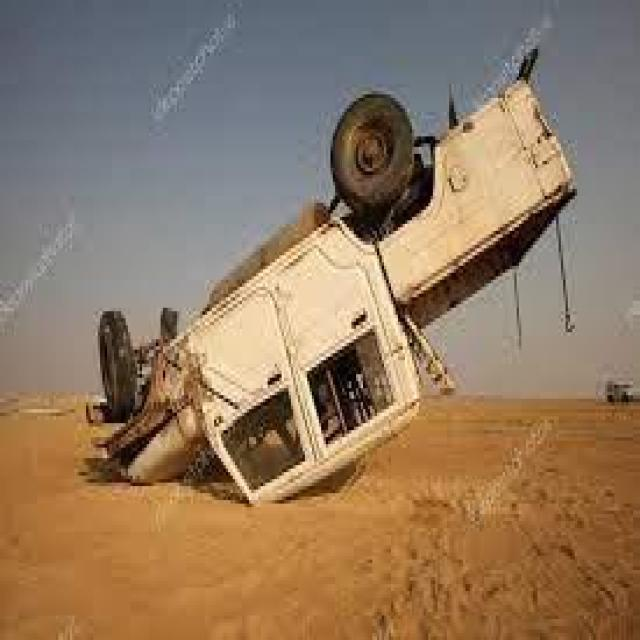severe: (85, 49, 581, 511)
